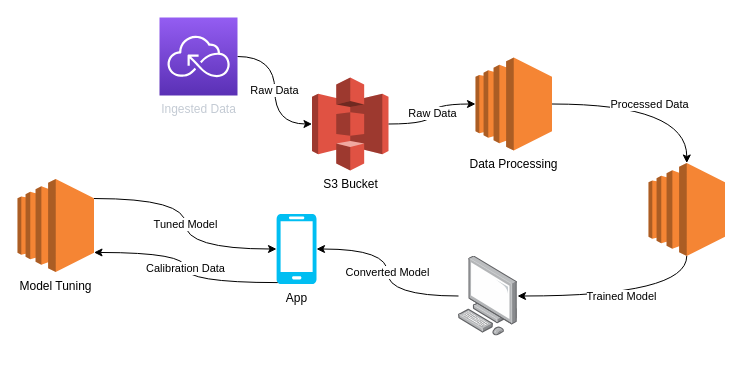
Some shapes in this 744 by 374 pixel diagram are drawn without their labels. Here are the shapes that lost their labels. From the top down, the centre of each, then its label:
(686,209): Model Training
(487,296): Model Conversion
